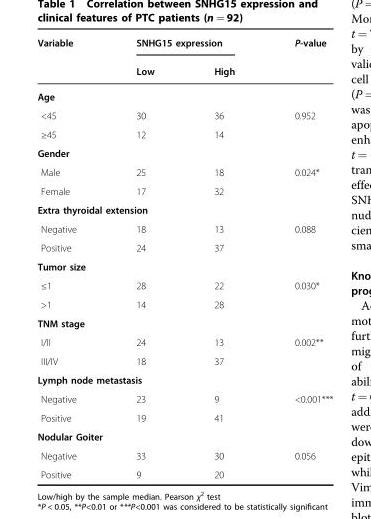table: (36, 36, 332, 479)
table column: (183, 36, 263, 479), (105, 36, 183, 479), (36, 36, 105, 479), (263, 36, 332, 479)
table column header: (36, 36, 332, 83)
table projected row header: (36, 83, 332, 105), (36, 143, 332, 162), (36, 200, 332, 219), (36, 256, 332, 275), (36, 313, 332, 332), (36, 370, 332, 389), (36, 426, 332, 445)
table row: (36, 56, 332, 83), (36, 83, 332, 105), (36, 36, 332, 56), (36, 105, 332, 124), (36, 124, 332, 143), (36, 143, 332, 162), (36, 162, 332, 181), (36, 181, 332, 200), (36, 200, 332, 219), (36, 219, 332, 238), (36, 256, 332, 275), (36, 275, 332, 294), (36, 294, 332, 313), (36, 313, 332, 332), (36, 332, 332, 351), (36, 351, 332, 370), (36, 370, 332, 389), (36, 389, 332, 408), (36, 426, 332, 445), (36, 445, 332, 464), (36, 238, 332, 256), (36, 408, 332, 426), (36, 464, 332, 479)
table spanning cell: (36, 36, 105, 83), (263, 36, 332, 83), (105, 36, 263, 56)
